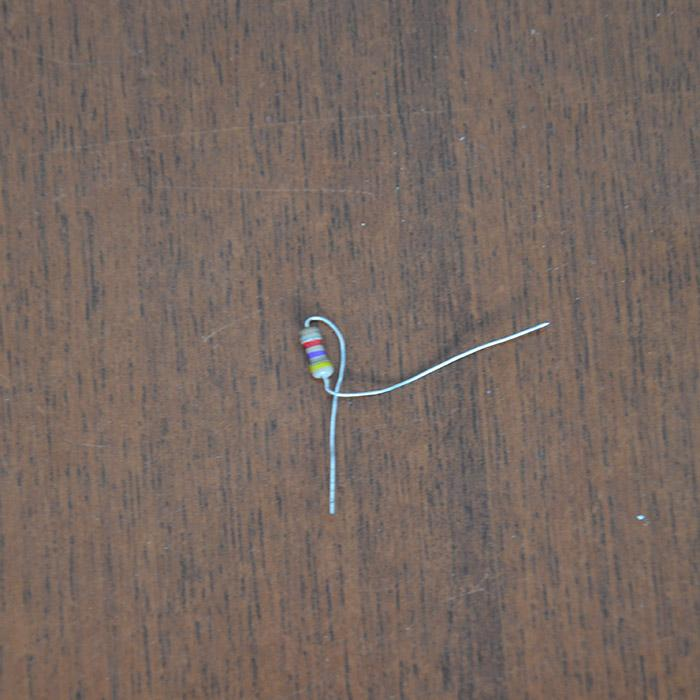resistor: (298, 324, 333, 381)
